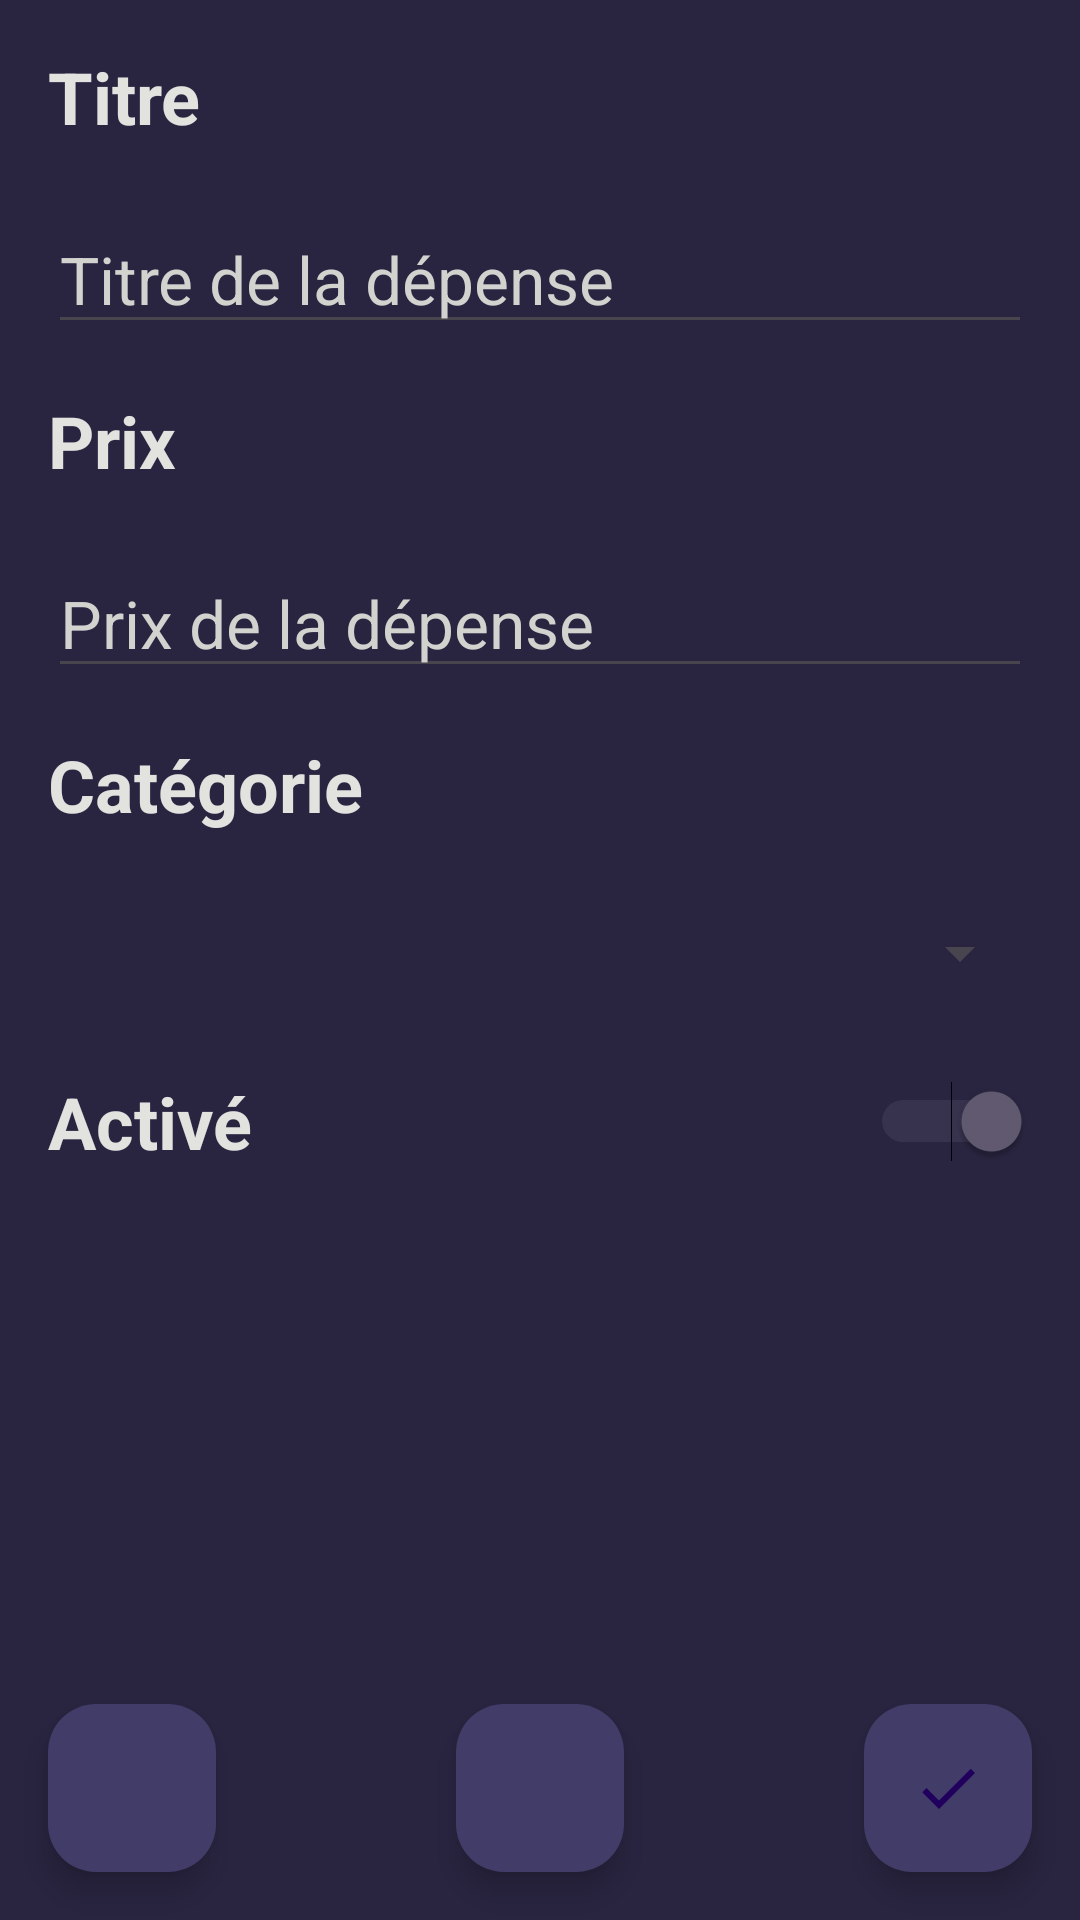

Icons on this 1080*1920 Android screen, each with its box as [left=x1, top=y1, right=x2, bottom=y2]:
check: [left=864, top=1704, right=1032, bottom=1872]
